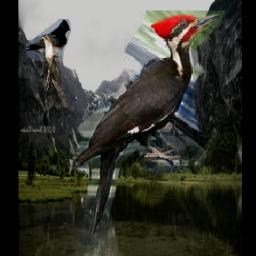Cuckoo: (41, 36, 66, 109)
Swallow: (25, 20, 70, 63)
Woodpecker: (73, 12, 225, 247)
